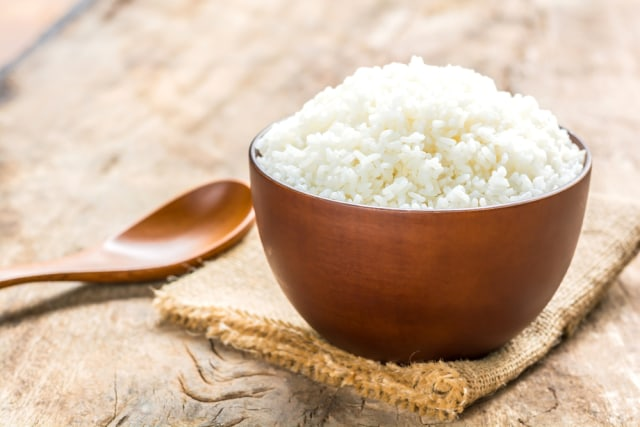Nasi Putih: (258, 44, 577, 243)
